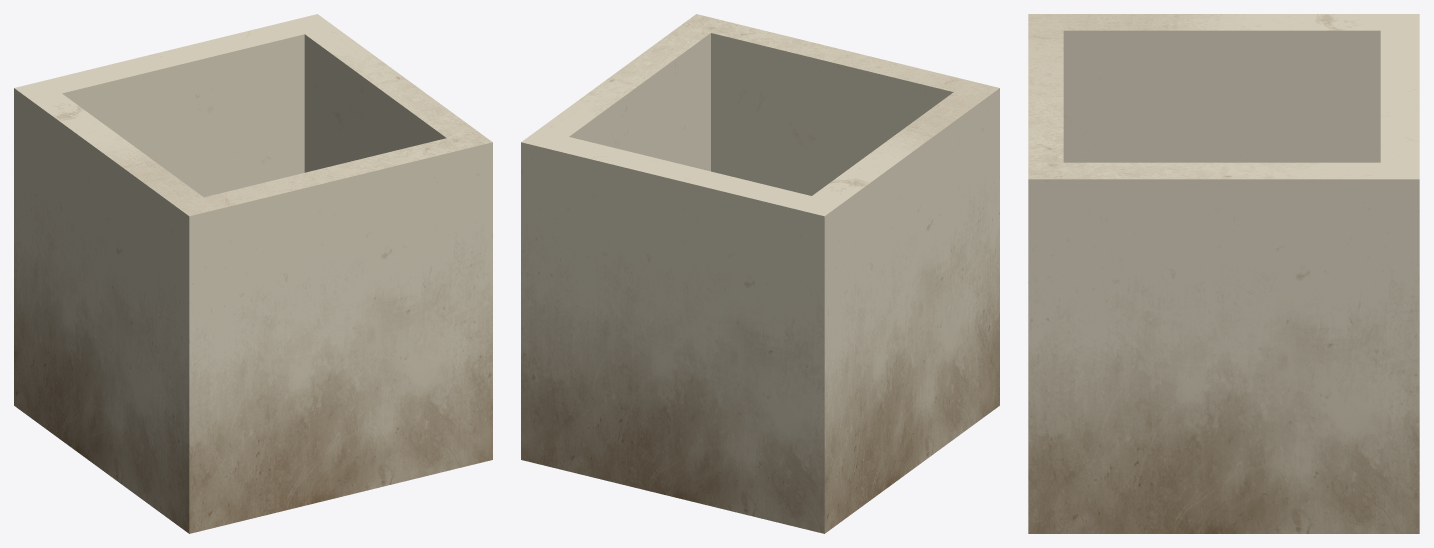
The model's file is wall_1x1.fbx.
3 views of the same model, side by side, from view 1: azimuth 30°, elevation 25°; view 2: azimuth 150°, elevation 25°; view 3: azimuth 270°, elevation 25° (orthographic). The views are drawn at different scales.
Visible parts, largest first — view 1: wall_1x1; view 2: wall_1x1; view 3: wall_1x1.
Boxes of the visible parts, box(x1,y1,x2,y2) form: wall_1x1: box(14, 14, 492, 533); wall_1x1: box(521, 14, 999, 533); wall_1x1: box(1028, 14, 1419, 533).
Size of the model in its own units: 100 by 100 by 100.
